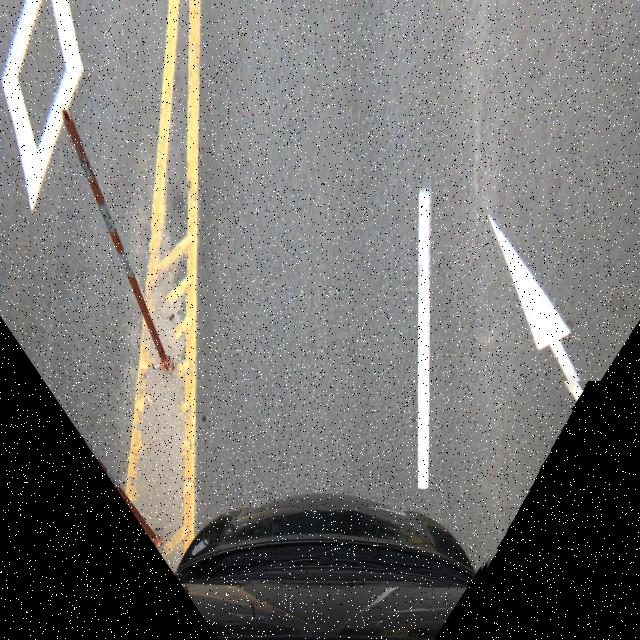diamond: (478, 381, 640, 640)
